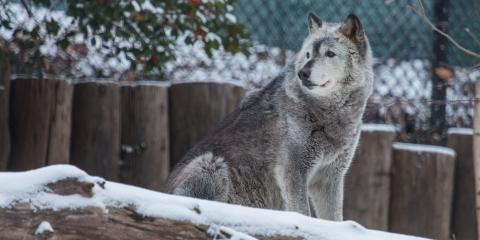Wolf: (159, 11, 375, 226)
